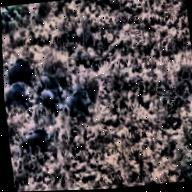boar: (4, 79, 34, 118), (69, 84, 97, 124), (3, 51, 37, 80), (20, 122, 52, 148), (43, 72, 68, 101), (41, 84, 63, 115)
